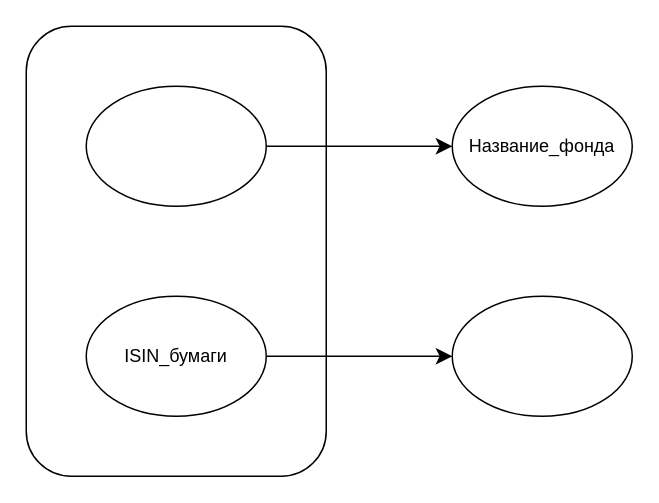
The diagram is 659 pixels wide and 503 high, and some of its shapes have lost their labels. Each missing label, with the centre of its shape:
ID_фонда: (175,145)
Название_бумаги: (541,355)
